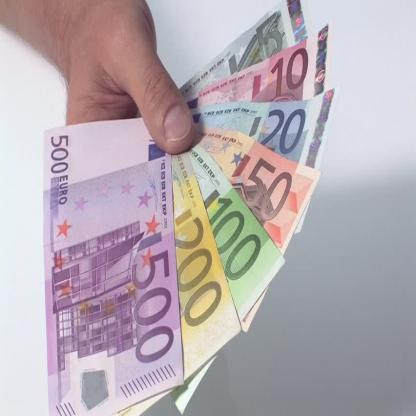billete: (42, 113, 185, 415), (116, 141, 241, 415), (166, 140, 286, 415), (187, 119, 323, 336), (187, 82, 343, 234), (180, 15, 336, 113), (176, 0, 310, 104)
